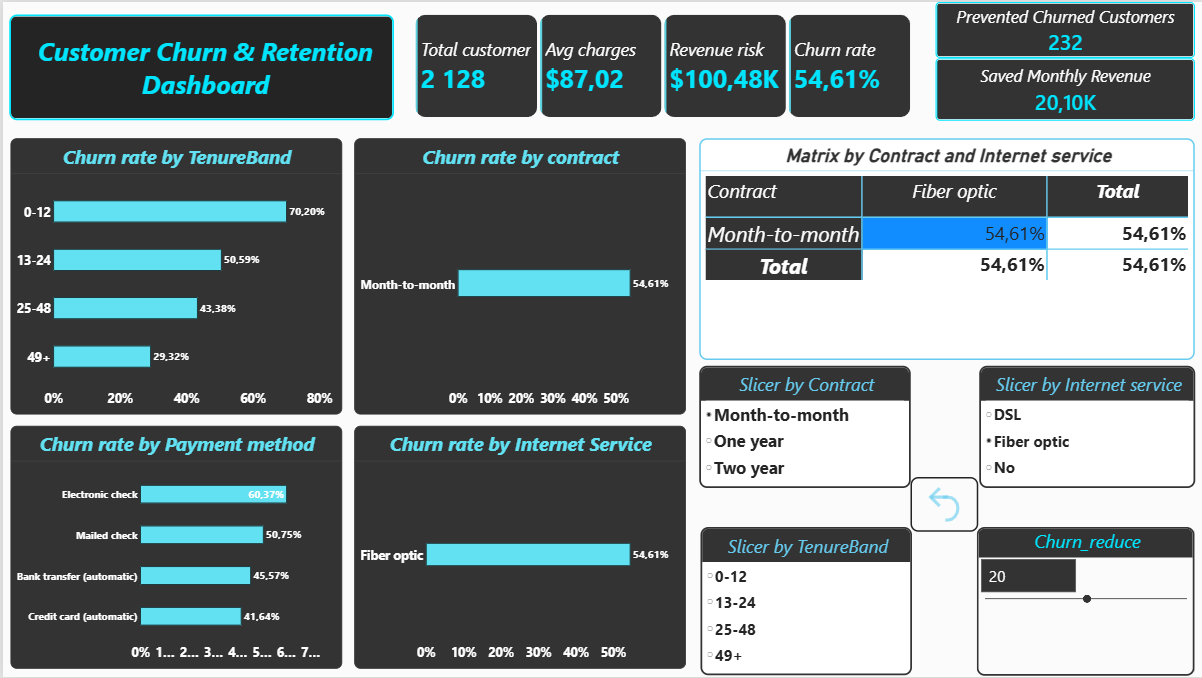

The dashboard page shown, as its layout file describes it:
{"tool":"powerbi","page":{"name":"Page 1","canvas":[3840,2160],"ordinal":0},"visuals":[{"type":"cardVisual","fields":{"Data":["WA_Fn-UseC_-Telco-Customer-Churn.Total_customer","WA_Fn-UseC_-Telco-Customer-Churn.Avg_monthlycharges","WA_Fn-UseC_-Telco-Customer-Churn.Monthly_revenue_risk","WA_Fn-UseC_-Telco-Customer-Churn.Churn_rate"]},"box":[1319,41.7,1586.1,329.7],"z":0},{"type":"clusteredBarChart","title":"Churn rate by contract","fields":{"Category":["WA_Fn-UseC_-Telco-Customer-Churn.Contract"],"Y":["WA_Fn-UseC_-Telco-Customer-Churn.Churn rate"]},"box":[1125.4,434.3,1061.2,883.7],"z":1000},{"type":"clusteredBarChart","title":"Churn rate by Internet Service","fields":{"Category":["WA_Fn-UseC_-Telco-Customer-Churn.InternetService"],"Y":["WA_Fn-UseC_-Telco-Customer-Churn.Churn rate"]},"box":[1125.4,1355.8,1061.2,778],"z":2000},{"type":"clusteredBarChart","title":"Churn rate by TenureBand","fields":{"Category":["WA_Fn-UseC_-Telco-Customer-Churn.TenureBand"],"Y":["WA_Fn-UseC_-Telco-Customer-Churn.Churn rate"]},"box":[22.7,434.3,1061.2,883.7],"z":3000},{"type":"clusteredBarChart","title":"Churn rate by Payment method","fields":{"Category":["WA_Fn-UseC_-Telco-Customer-Churn.PaymentMethod"],"Y":["WA_Fn-UseC_-Telco-Customer-Churn.Churn rate"]},"box":[22.7,1355.8,1061.2,778],"z":4000},{"type":"pivotTable","title":"Matrix by Contract and Internet service","fields":{"Columns":["WA_Fn-UseC_-Telco-Customer-Churn.InternetService"],"Rows":["WA_Fn-UseC_-Telco-Customer-Churn.Contract"],"Values":["WA_Fn-UseC_-Telco-Customer-Churn.Churn rate"]},"box":[2229.5,434.3,1585.3,709.4],"z":5000},{"type":"listSlicer","title":"Slicer by Contract","fields":{"Values":["WA_Fn-UseC_-Telco-Customer-Churn.Contract"]},"box":[2229.5,1165.4,676.8,390.9],"z":6000},{"type":"listSlicer","title":"Slicer by Internet service","fields":{"Values":["WA_Fn-UseC_-Telco-Customer-Churn.InternetService"]},"box":[3122.1,1164.5,691.3,390.9],"z":7000},{"type":"listSlicer","title":"Slicer by TenureBand","fields":{"Values":["WA_Fn-UseC_-Telco-Customer-Churn.TenureBand"]},"box":[2230.5,1681.9,676.8,474.1],"z":8000},{"type":"actionButton","box":[2905,1519.3,217,175.3],"z":10000},{"type":"slicer","title":"Churn_reduce","fields":{"Values":["Churn_reduce.Churn_reduce"]},"box":[3115.5,1681.9,697,475.8],"z":11001},{"type":"cardVisual","fields":{"Data":["WA_Fn-UseC_-Telco-Customer-Churn.Saved Monthly Revenue"]},"box":[2984.3,179.5,830.6,200.3],"z":11002},{"type":"cardVisual","fields":{"Data":["WA_Fn-UseC_-Telco-Customer-Churn.Prevented Churned Customers"]},"box":[2984.3,0,830.6,179.5],"z":11003},{"type":"actionButton","box":[20.9,41.7,1231.3,338.1],"z":11004}]}

Visuals, with their boxes in screenshot pixels (x1, y1, x2, y2), scaled from the page's 3840x2160 canvas onto the 1202x678 screenshot:
cardVisual - WA_Fn-UseC_-Telco-Customer-Churn.Total_customer x WA_Fn-UseC_-Telco-Customer-Churn.Avg_monthlycharges: 413 13 909 117
"Churn rate by contract" clusteredBarChart: 352 136 684 414
"Churn rate by Internet Service" clusteredBarChart: 352 426 684 670
"Churn rate by TenureBand" clusteredBarChart: 7 136 339 414
"Churn rate by Payment method" clusteredBarChart: 7 426 339 670
"Matrix by Contract and Internet service" pivotTable: 698 136 1194 359
"Slicer by Contract" listSlicer: 698 366 910 489
"Slicer by Internet service" listSlicer: 977 366 1194 488
"Slicer by TenureBand" listSlicer: 698 528 910 677
actionButton: 909 477 977 532
"Churn_reduce" slicer: 975 528 1193 677
cardVisual - WA_Fn-UseC_-Telco-Customer-Churn.Saved Monthly Revenue: 934 56 1194 119
cardVisual - WA_Fn-UseC_-Telco-Customer-Churn.Prevented Churned Customers: 934 0 1194 56
actionButton: 7 13 392 119
